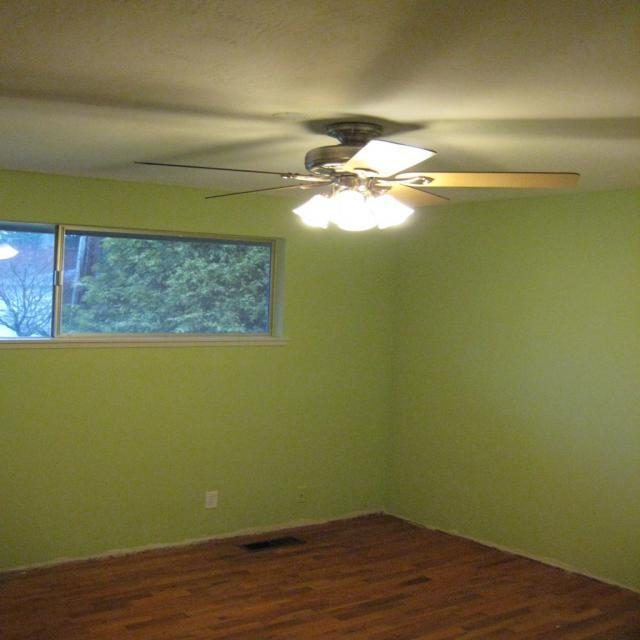fan_off: (133, 122, 580, 202)
